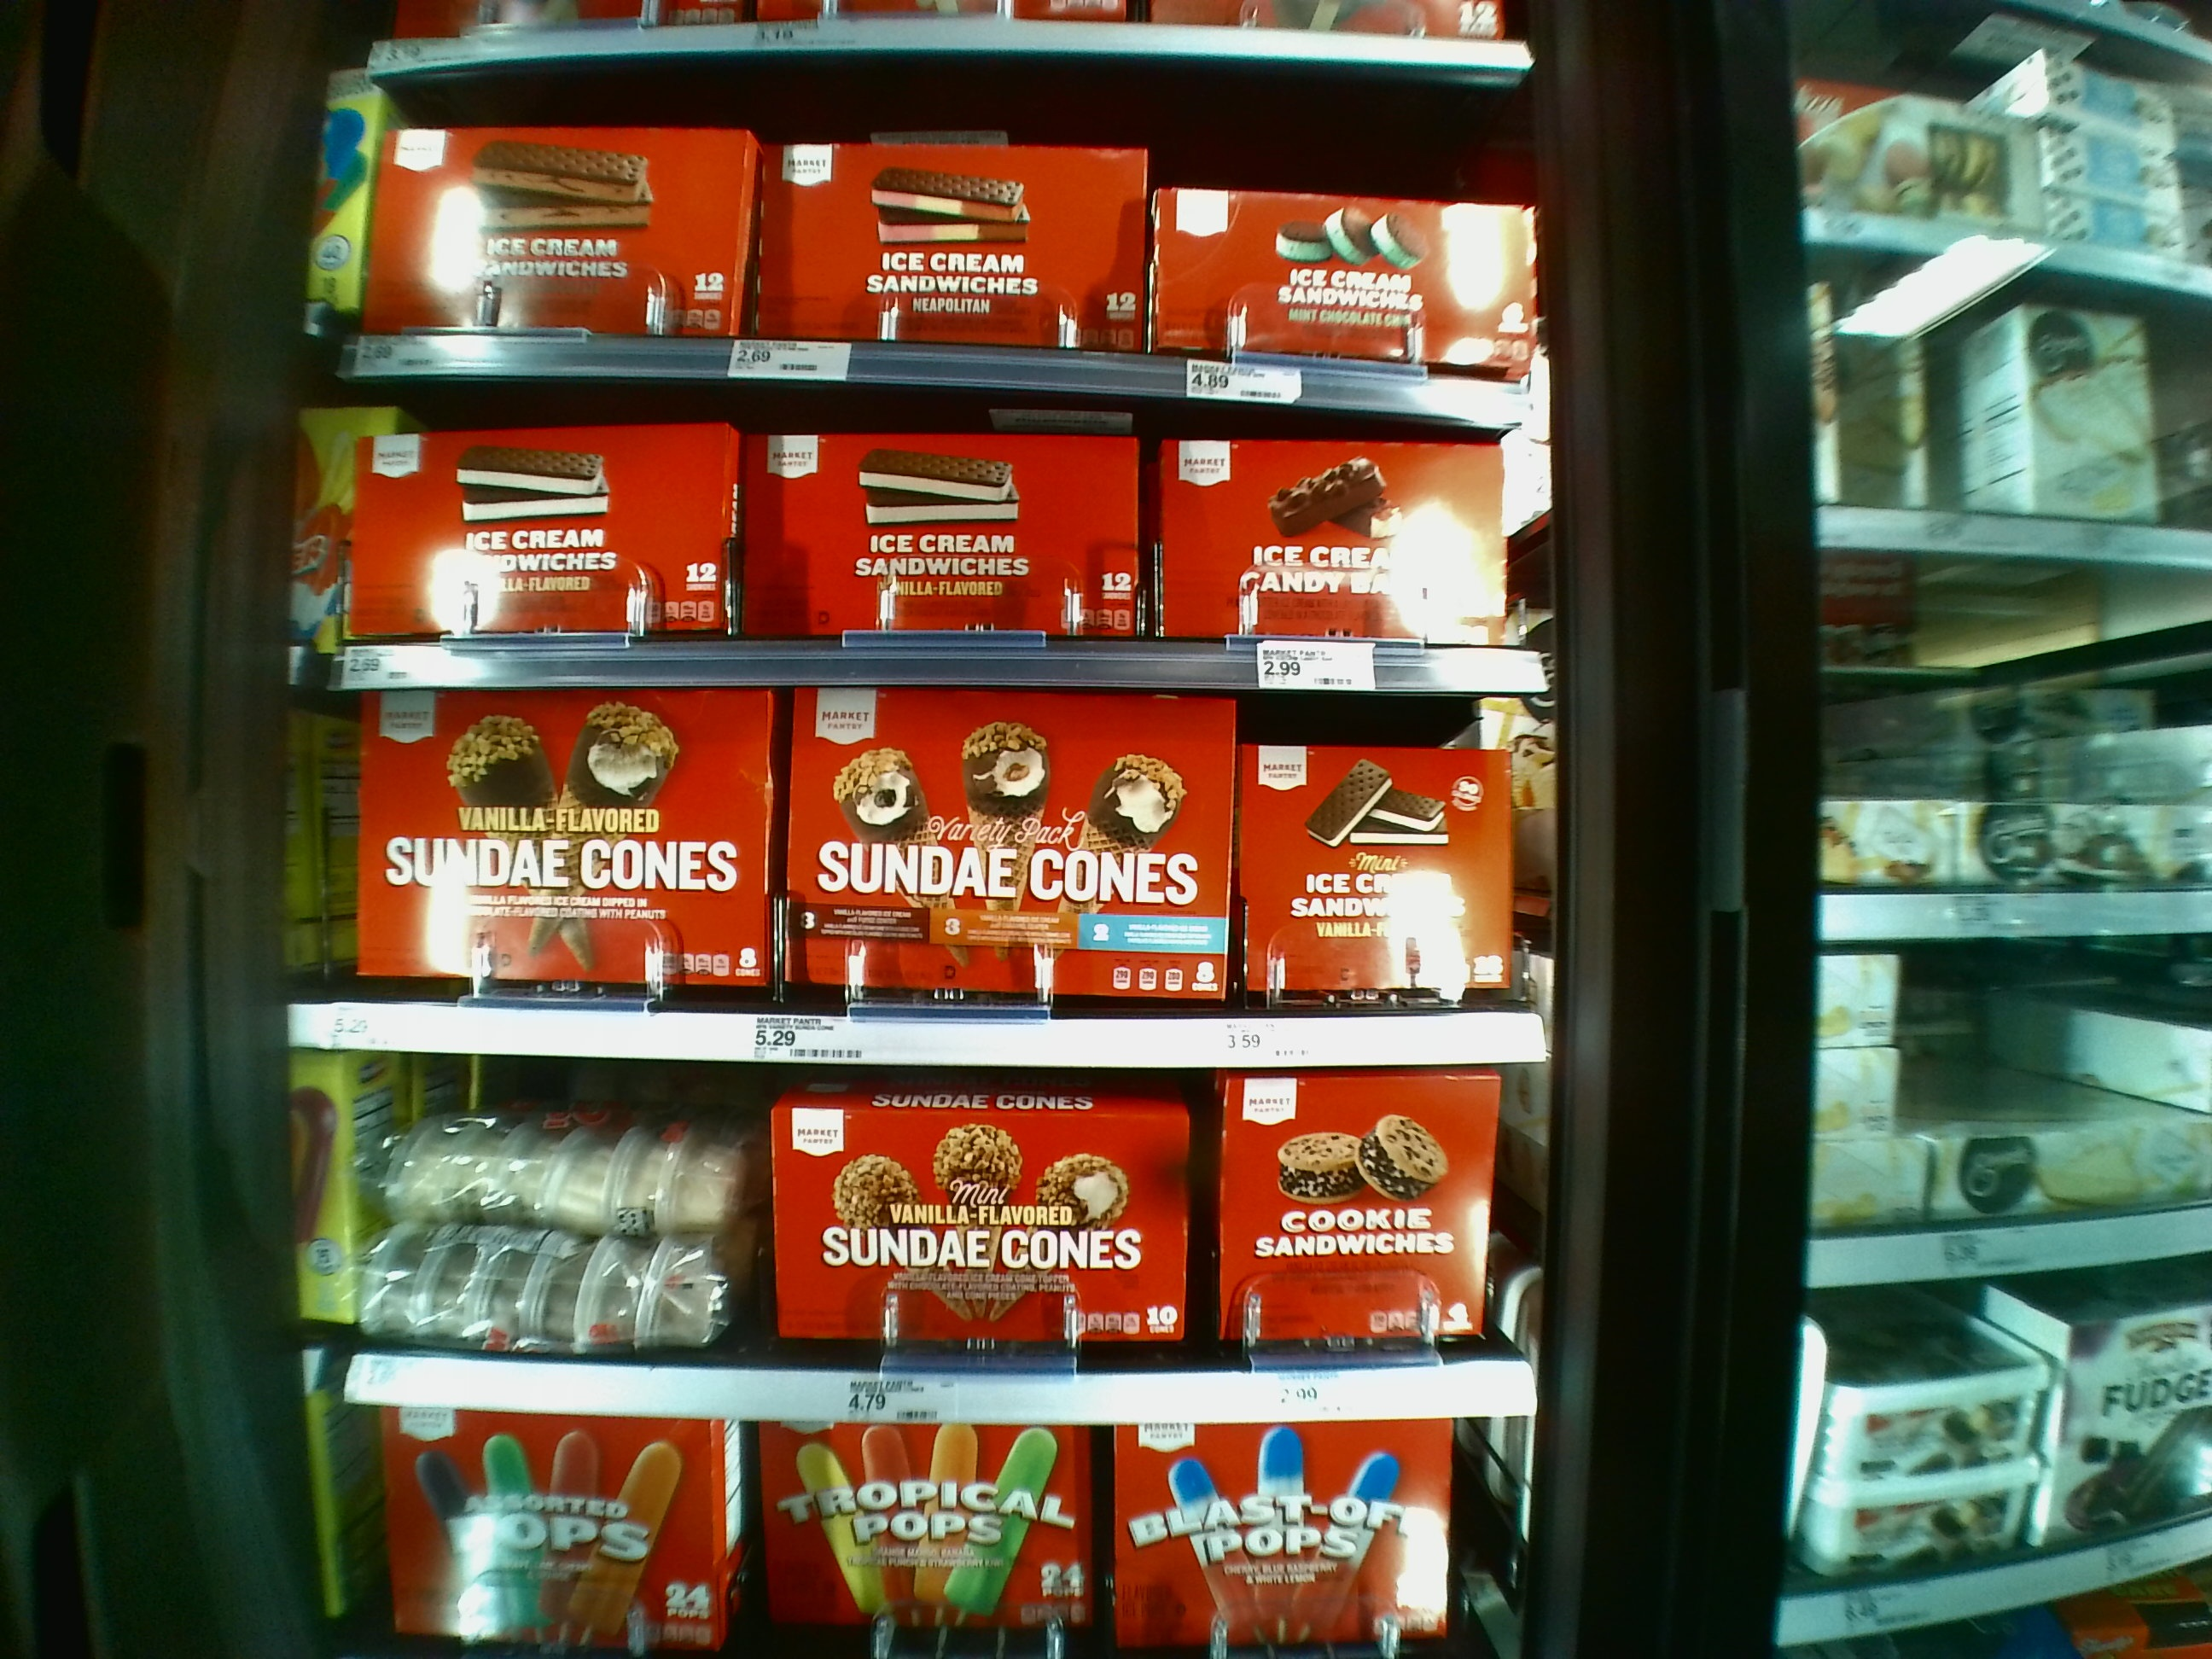shelf: (317, 711, 1540, 1061), (343, 1063, 1521, 1415), (371, 61, 1531, 408), (340, 396, 1529, 706)
